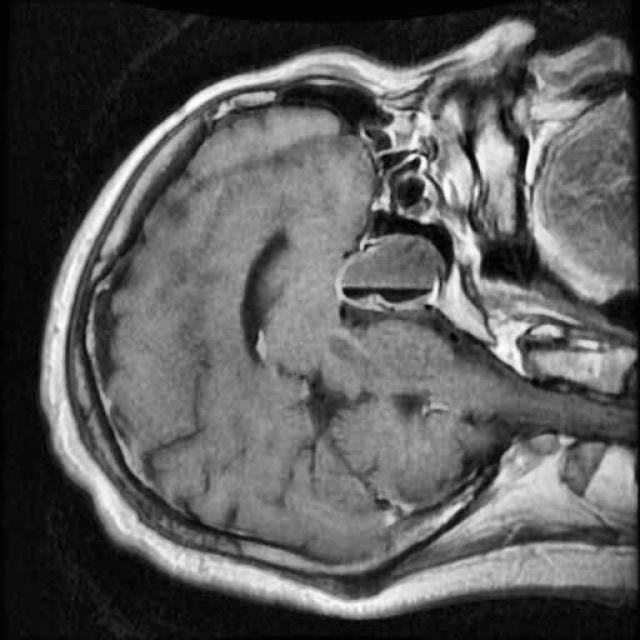Tumor: (322, 218, 455, 315)
